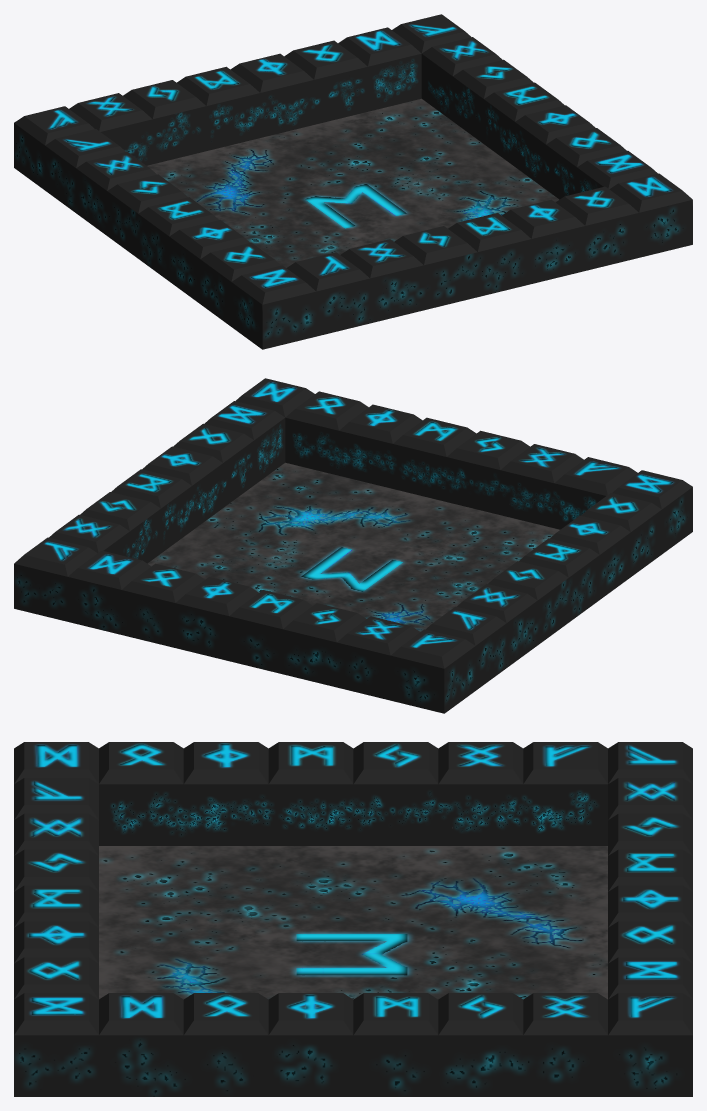
File: Field_2.fbx
3 renders of one model, top to bottom at view 1: azimuth 30°, elevation 25°; view 2: azimuth 150°, elevation 25°; view 3: azimuth 270°, elevation 25°, orthographic. The views are drawn at different scales.
Visible parts, largest first — view 1: Plane001; view 2: Plane001; view 3: Plane001.
Boxes of the visible parts, <box> form: Plane001: <box>14,14,692,349</box>; Plane001: <box>14,378,692,713</box>; Plane001: <box>14,742,692,1096</box>.
Bounding box in the file's own units: 1575 × 185 × 1575.
Materials: 1 (1 with a texture image).
